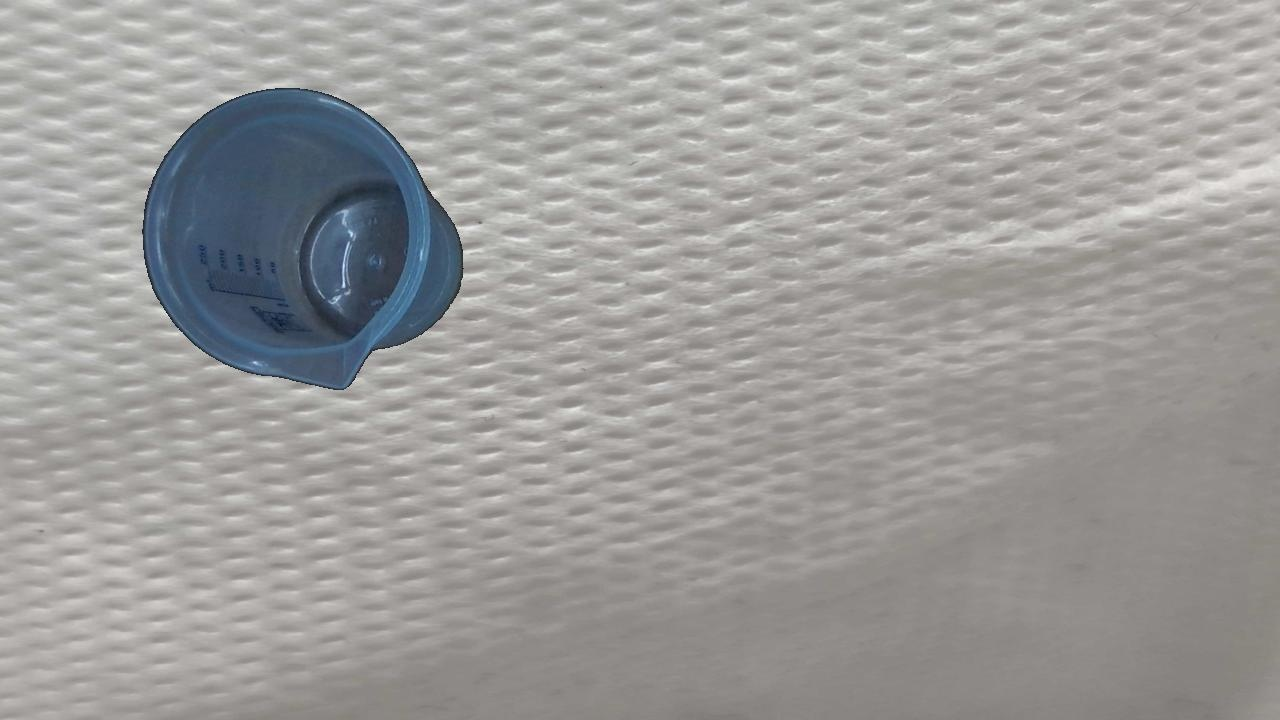cup: (142, 87, 464, 392)
